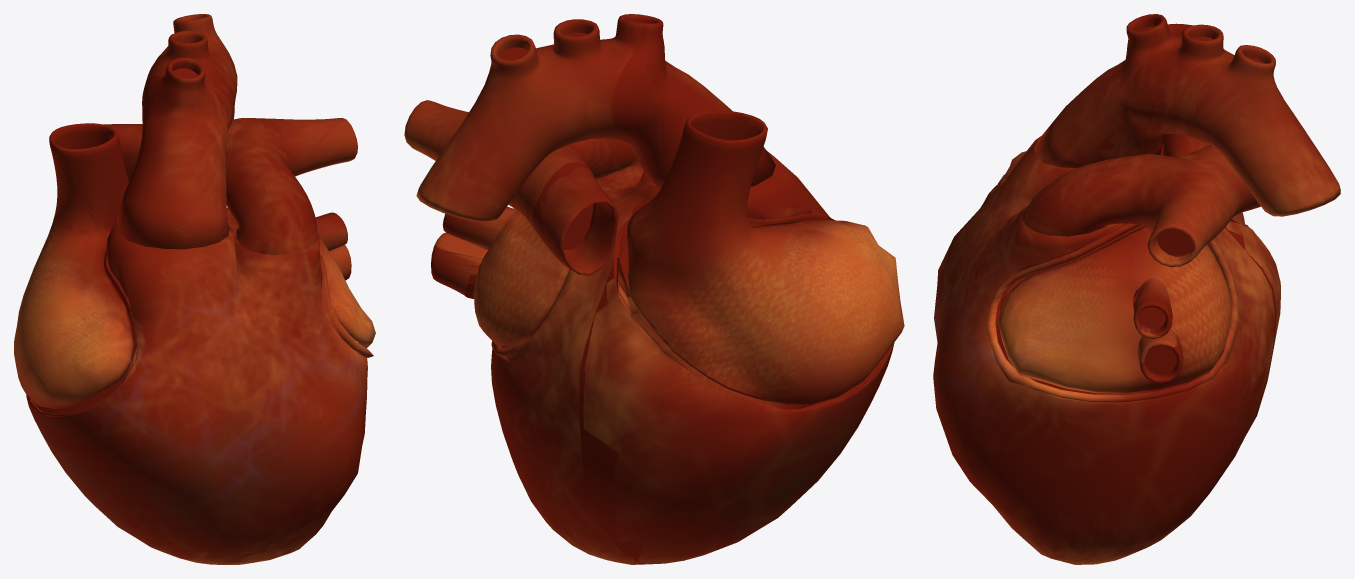
Rendered from inima.glb.
3 renders of one model, left to right at view 1: azimuth 30°, elevation 25°; view 2: azimuth 150°, elevation 25°; view 3: azimuth 270°, elevation 25°, orthographic. The views are drawn at different scales.
Visible parts, largest first — view 1: objpolySurface2, objpolySurface2.003, objpolySurface2.004, objpolySurface2.005, objpolySurface2.002; view 2: objpolySurface2, objpolySurface2.003, objpolySurface2.004, objpolySurface2.005, objpolySurface2.002; view 3: objpolySurface2, objpolySurface2.004, objpolySurface2.002, objpolySurface2.005, objpolySurface2.003.
Part boxes in pixels (x1,y1,x2,y2): objpolySurface2: [26, 207, 373, 564]; objpolySurface2.003: [14, 123, 133, 408]; objpolySurface2.004: [116, 14, 237, 249]; objpolySurface2.005: [104, 118, 357, 254]; objpolySurface2.002: [315, 212, 375, 348]; objpolySurface2: [491, 151, 894, 564]; objpolySurface2.003: [626, 110, 904, 405]; objpolySurface2.004: [416, 14, 775, 222]; objpolySurface2.005: [404, 100, 643, 275]; objpolySurface2.002: [431, 206, 570, 346]; objpolySurface2: [933, 136, 1280, 564]; objpolySurface2.004: [1034, 14, 1340, 216]; objpolySurface2.002: [997, 225, 1231, 393]; objpolySurface2.005: [1022, 144, 1260, 267]; objpolySurface2.003: [998, 23, 1244, 223].
Size of the model in its own units: 59.86 by 77.63 by 54.6.
Materials: 1 (1 with a texture image).
